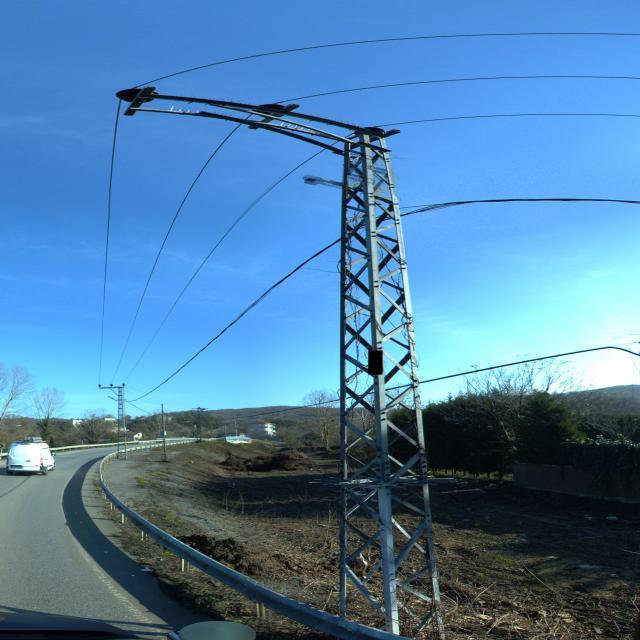Utility Pole Information Plate: (368, 351, 382, 375)
